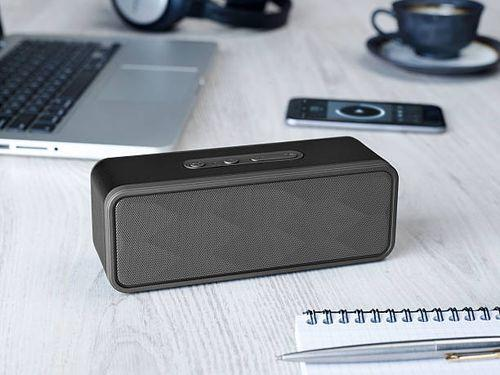speaker: (90, 137, 398, 295)
